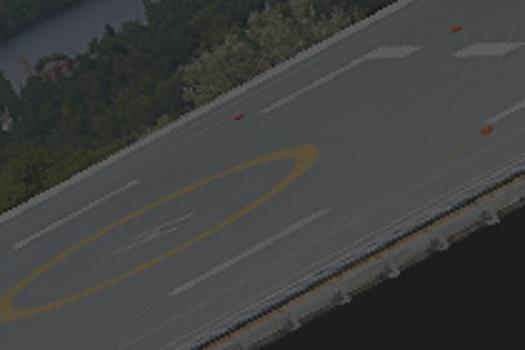Apron: (2, 126, 324, 319)
